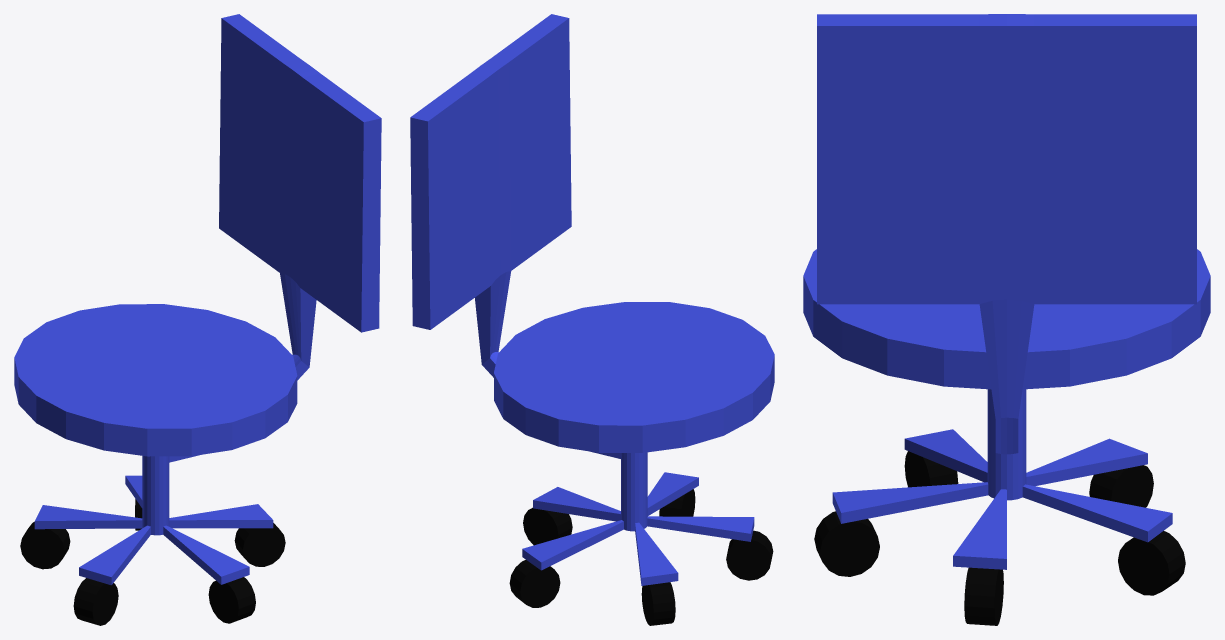
Rendered from FixedDeskChair.fbx.
3 renders of one model, left to right at view 1: azimuth 30°, elevation 25°; view 2: azimuth 150°, elevation 25°; view 3: azimuth 270°, elevation 25°, orthographic. The views are drawn at different scales.
Parts seen in each view (by area): view 1: Cylinder; view 2: Cylinder; view 3: Cylinder.
Boxes of the visible parts, <box> form: Cylinder: <box>14,14,381,625</box>; Cylinder: <box>410,14,774,625</box>; Cylinder: <box>803,14,1210,625</box>.
Size of the model in its own units: 207 by 344 by 200.
